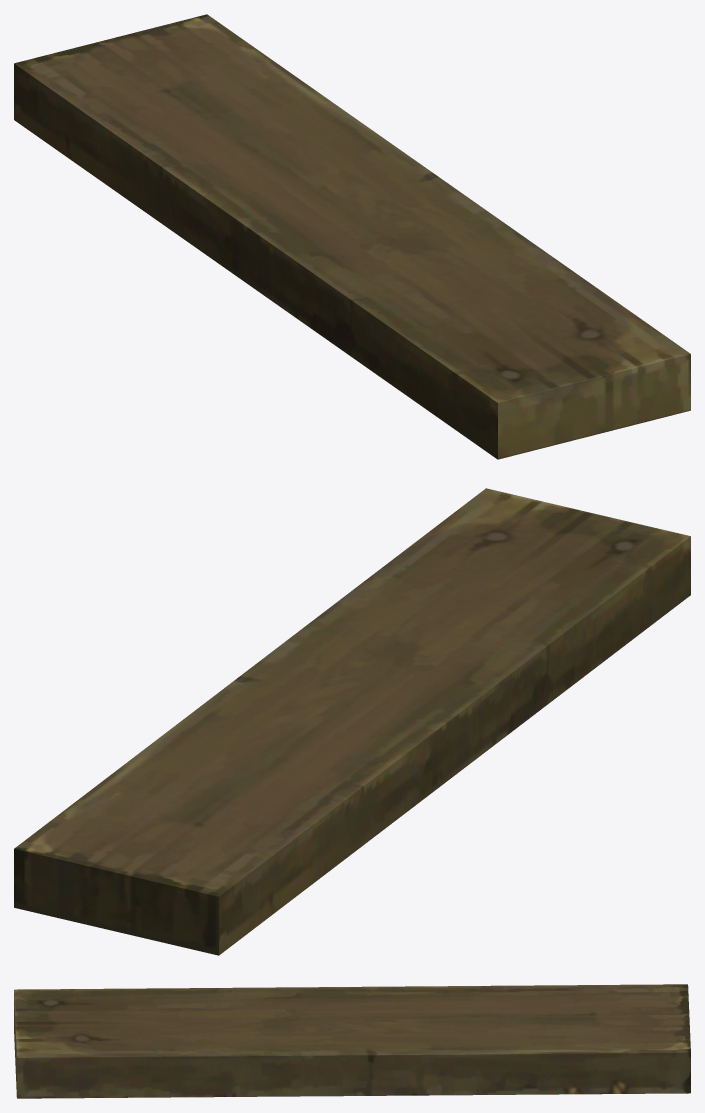
Rendered from bfcs_mutou_01.FBX.
3 views of the same model, one above another, from view 1: azimuth 30°, elevation 25°; view 2: azimuth 150°, elevation 25°; view 3: azimuth 270°, elevation 25° (orthographic). The views are drawn at different scales.
Parts seen in each view (by area): view 1: bfcs_mutou_01; view 2: bfcs_mutou_01; view 3: bfcs_mutou_01.
Boxes of the visible parts, bbox=[...] form: bfcs_mutou_01: bbox=[14, 14, 690, 459]; bfcs_mutou_01: bbox=[14, 488, 690, 955]; bfcs_mutou_01: bbox=[14, 984, 690, 1098].
Bounding box in the file's own units: 15.53 × 4 × 60.32.
